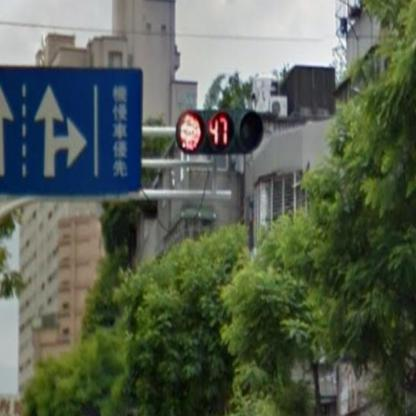Red Light: (176, 106, 263, 159)
